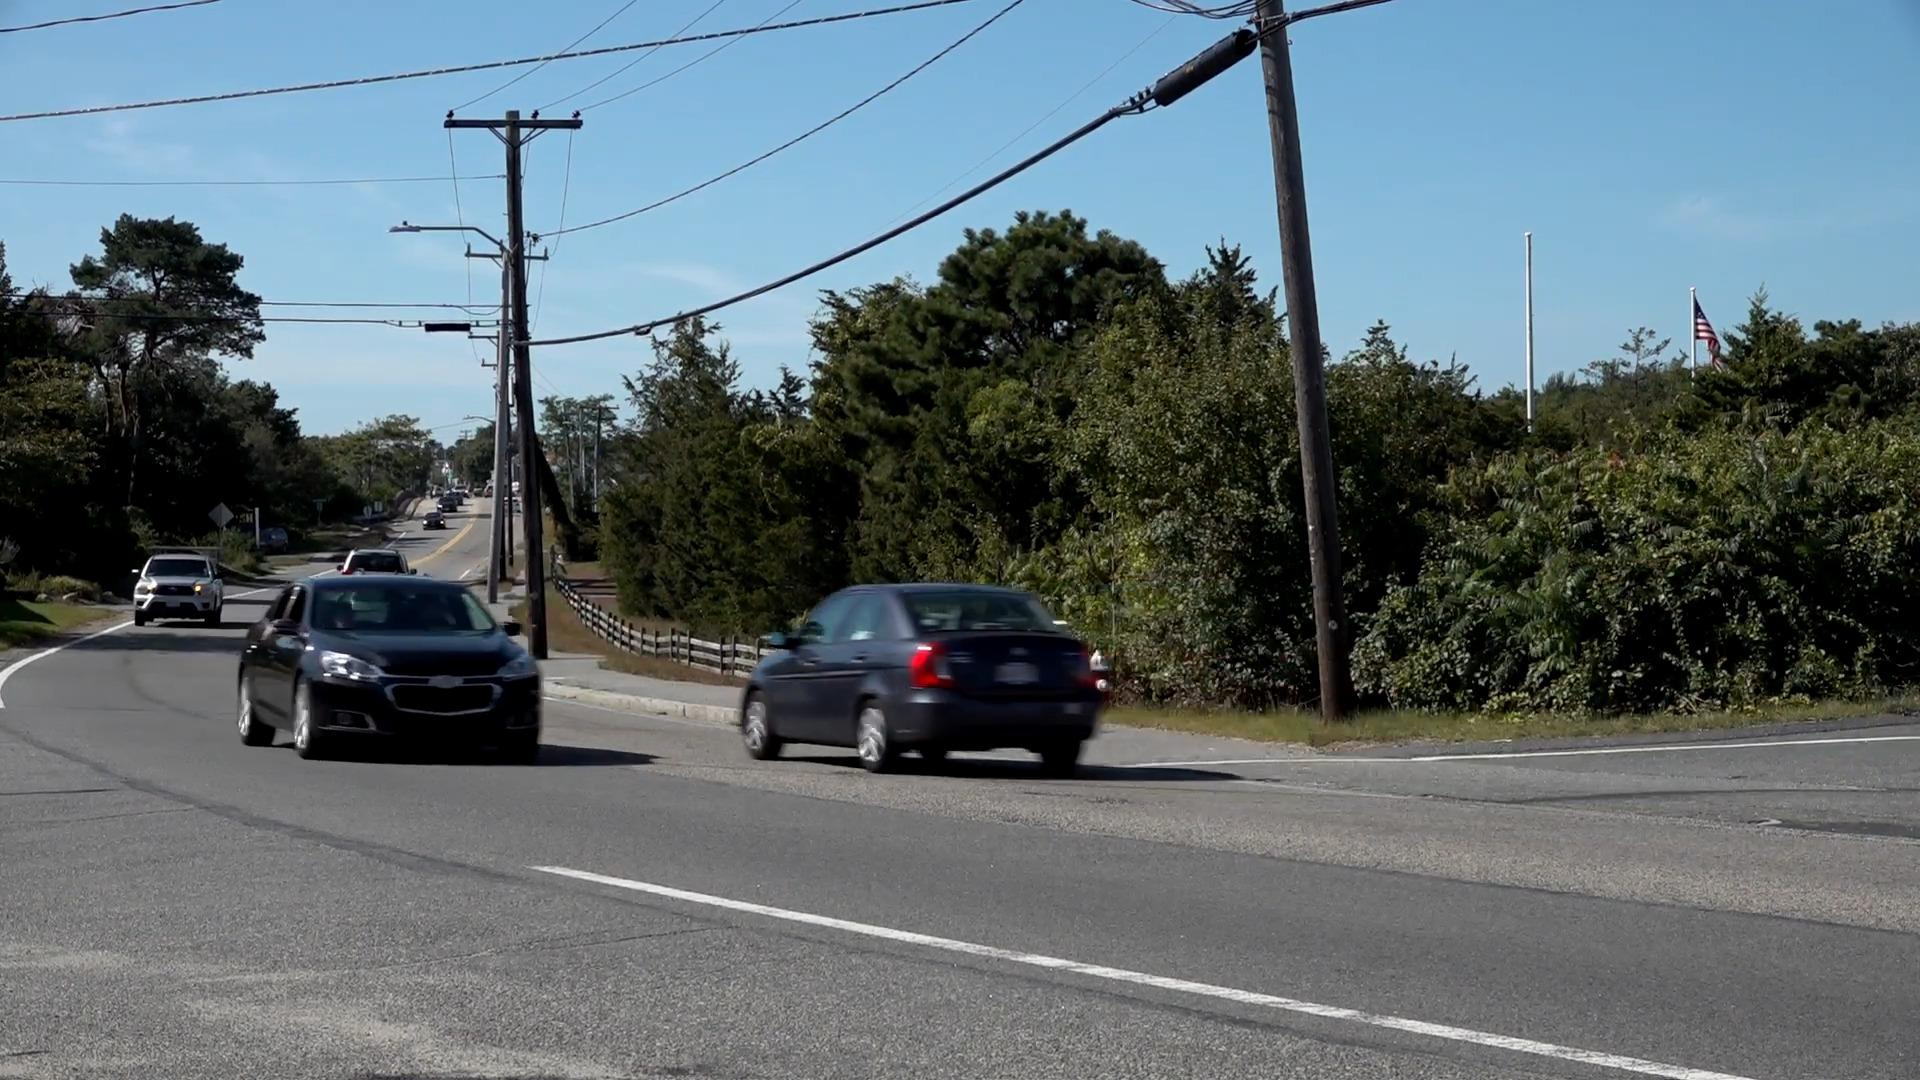sedans: (741, 580, 1102, 776), (240, 571, 545, 767)
suv: (131, 539, 225, 629)
